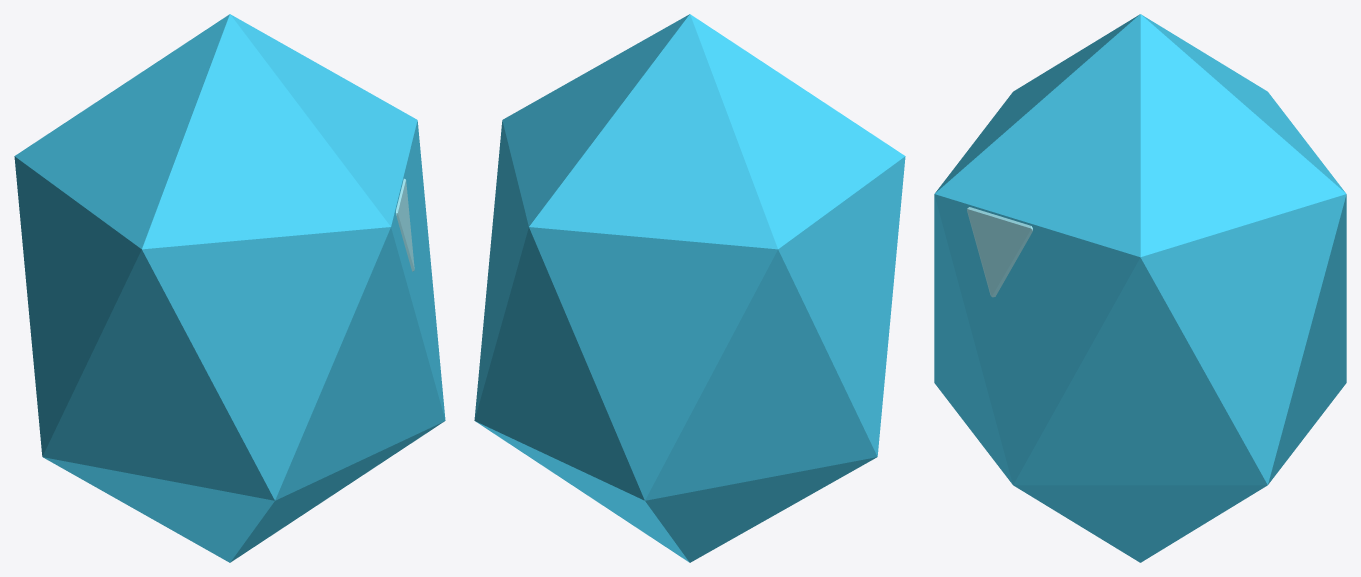
Rendered from prop_gem_large.glb.
3 renders of one model, left to right at view 1: azimuth 30°, elevation 25°; view 2: azimuth 150°, elevation 25°; view 3: azimuth 270°, elevation 25°, orthographic.
Visible parts, largest first — view 1: prop_gem_large; view 2: prop_gem_large; view 3: prop_gem_large.
Boxes of the visible parts, left/top/right/bottom form: prop_gem_large: left=14, top=14, right=445, bottom=562; prop_gem_large: left=474, top=14, right=905, bottom=562; prop_gem_large: left=934, top=14, right=1346, bottom=562.
Size of the model in its own units: 0.2004 by 0.28 by 0.1905.
1 material, 1 textured.
